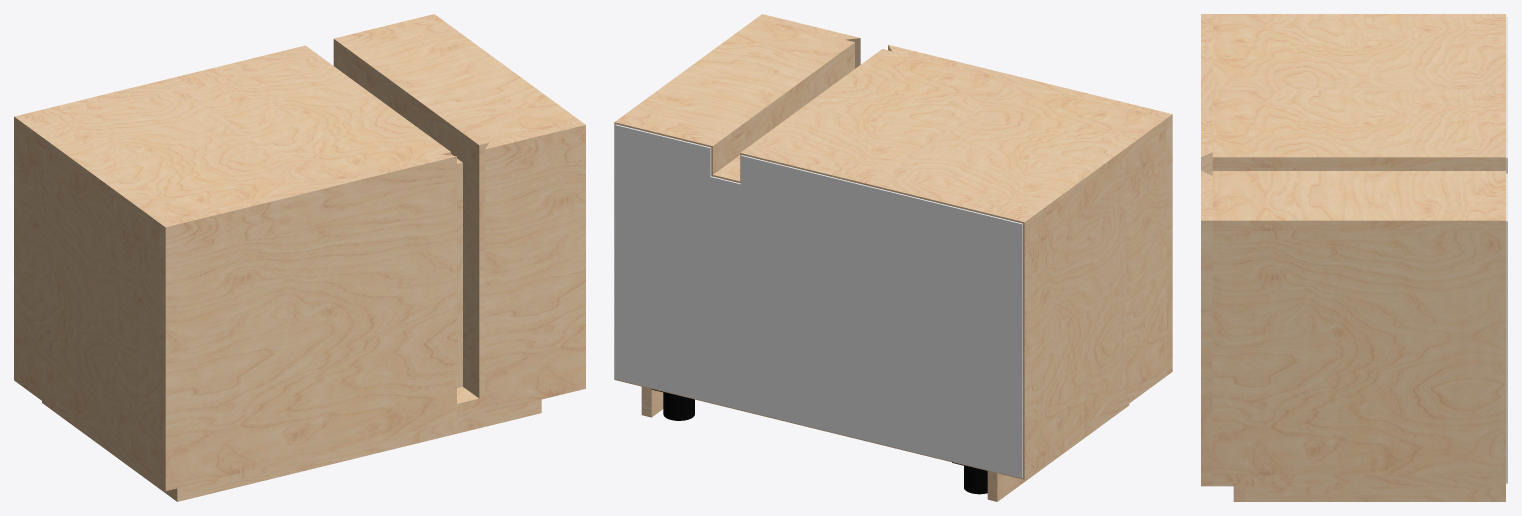
Rendered from Aparador.glb.
The picture shows the model from 3 angles, left to right: view 1: azimuth 30°, elevation 25°; view 2: azimuth 150°, elevation 25°; view 3: azimuth 270°, elevation 25°; orthographic projection. The views are drawn at different scales.
Parts seen in each view (by area): view 1: Mesh4 Diferencia2_1 Group1 Model, Mesh3 Group3 Group1 Model, Mesh11 Unir1 Group1 Model, Mesh5 Diferencia2_2 Group1 Model, Mesh15 Group7 Group1 Model, Mesh6 Unir Group1 Model, Mesh2 Group2 Group1 Model, Mesh13 Group5 Group1 Model, Mesh14 Group6 Group1 Model; view 2: Mesh20 Diferencia2_6 Group1 Model, Mesh3 Group3 Group1 Model, Mesh11 Unir1 Group1 Model, Mesh21 Diferencia2_6 Group1 Model, Mesh15 Group7 Group1 Model, Mesh19 Intersecci_n Group1 Model, Mesh4 Diferencia2_1 Group1 Model, Mesh6 Unir Group1 Model, Mesh13 Group5 Group1 Model, Mesh10 Group4 Group1 Model, Mesh8 Diferencia2_4 Group1 Model, Mesh5 Diferencia2_2 Group1 Model (+1 smaller); view 3: Mesh17 Unir3 Group1 Model, Mesh3 Group3 Group1 Model, Mesh15 Group7 Group1 Model, Mesh18 Group9 Group1 Model, Mesh5 Diferencia2_2 Group1 Model, Mesh13 Group5 Group1 Model, Mesh4 Diferencia2_1 Group1 Model, Mesh12 Unir2 Group1 Model, Mesh21 Diferencia2_6 Group1 Model.
Boxes of the visible parts, x1,y1,x2,y2 form: Mesh4 Diferencia2_1 Group1 Model: (159, 154, 456, 491); Mesh3 Group3 Group1 Model: (14, 45, 450, 233); Mesh11 Unir1 Group1 Model: (14, 127, 159, 475); Mesh5 Diferencia2_2 Group1 Model: (485, 120, 585, 413); Mesh15 Group7 Group1 Model: (333, 14, 579, 155); Mesh6 Unir Group1 Model: (333, 49, 484, 398); Mesh2 Group2 Group1 Model: (171, 399, 541, 501); Mesh13 Group5 Group1 Model: (14, 370, 484, 486); Mesh14 Group6 Group1 Model: (457, 158, 462, 387); Mesh20 Diferencia2_6 Group1 Model: (741, 155, 1022, 478); Mesh3 Group3 Group1 Model: (740, 49, 1166, 232); Mesh11 Unir1 Group1 Model: (1023, 129, 1166, 469); Mesh21 Diferencia2_6 Group1 Model: (615, 124, 711, 402); Mesh15 Group7 Group1 Model: (614, 18, 854, 156); Mesh19 Intersecci_n Group1 Model: (710, 176, 740, 409); Mesh4 Diferencia2_1 Group1 Model: (888, 44, 1172, 375); Mesh6 Unir Group1 Model: (711, 53, 854, 176); Mesh13 Group5 Group1 Model: (614, 366, 1166, 479); Mesh10 Group4 Group1 Model: (987, 408, 1123, 501); Mesh8 Diferencia2_4 Group1 Model: (651, 389, 694, 420); Mesh5 Diferencia2_2 Group1 Model: (757, 14, 860, 68); Mesh17 Unir3 Group1 Model: (1212, 231, 1505, 475); Mesh3 Group3 Group1 Model: (1212, 14, 1505, 167); Mesh15 Group7 Group1 Model: (1212, 171, 1505, 230); Mesh18 Group9 Group1 Model: (1245, 486, 1505, 501); Mesh5 Diferencia2_2 Group1 Model: (1201, 171, 1212, 486); Mesh13 Group5 Group1 Model: (1212, 475, 1505, 486); Mesh4 Diferencia2_1 Group1 Model: (1201, 14, 1212, 175); Mesh12 Unir2 Group1 Model: (1212, 167, 1505, 170); Mesh21 Diferencia2_6 Group1 Model: (1506, 173, 1507, 483).
Size of the model in its own units: 0.75 by 0.5 by 0.471.
21 materials, 14 textured.
